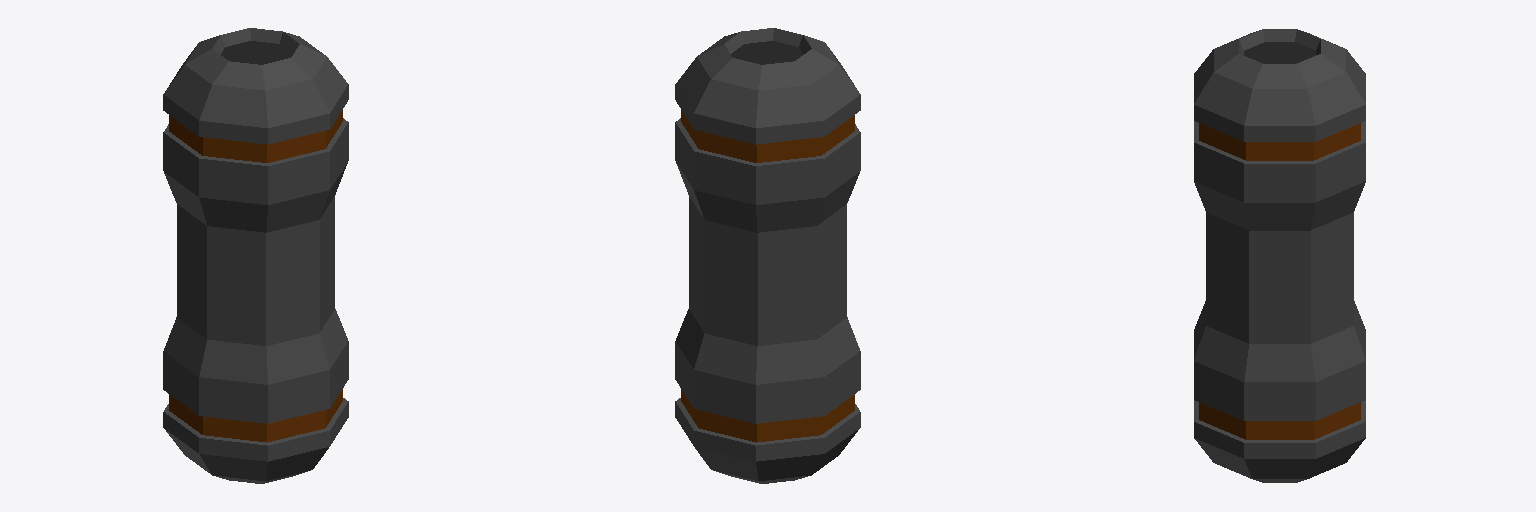
File: Props_Vessel.obj
The picture shows the model from 3 angles: view 1: azimuth 30°, elevation 25°; view 2: azimuth 150°, elevation 25°; view 3: azimuth 270°, elevation 25°; orthographic projection.
Parts seen in each view (by area): view 1: Props_Vessel_Cube.027; view 2: Props_Vessel_Cube.027; view 3: Props_Vessel_Cube.027.
Boxes of the visible parts, <box> form: Props_Vessel_Cube.027: <box>163,28,348,483</box>; Props_Vessel_Cube.027: <box>675,28,860,483</box>; Props_Vessel_Cube.027: <box>1194,29,1365,482</box>.
Size of the model in its own units: 0.2873 by 0.7705 by 0.2873.